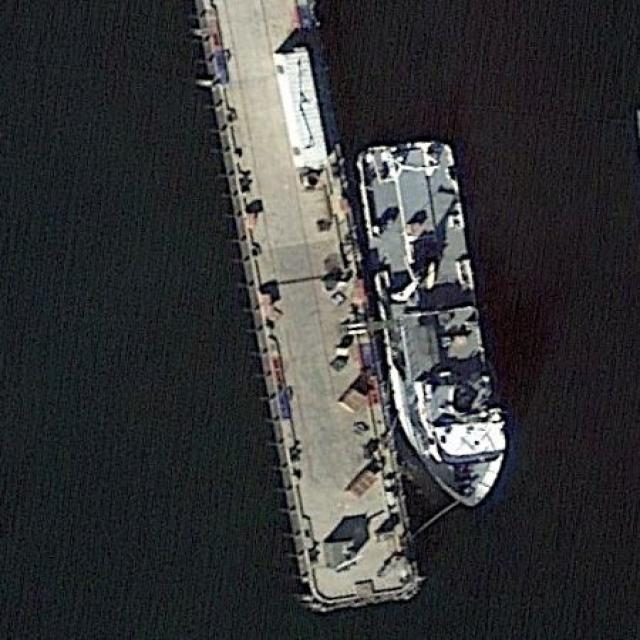boat: (351, 137, 512, 508)
